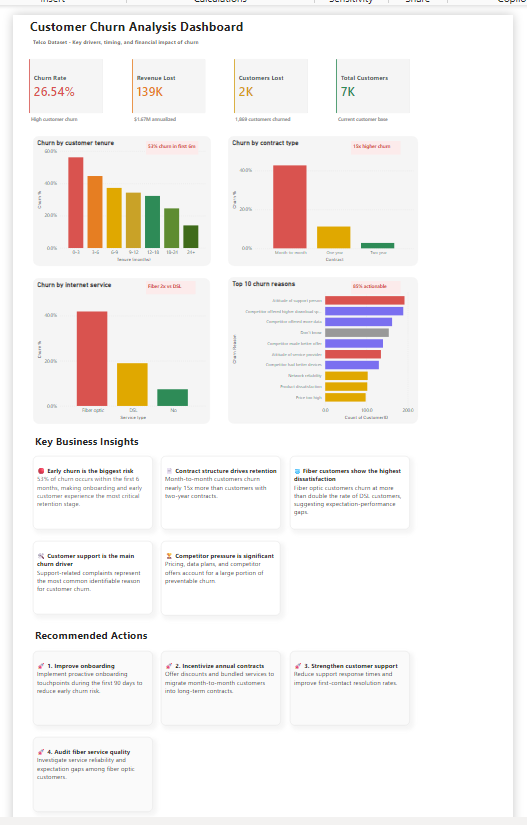

The page's visual inventory and layout, read from the dashboard file:
{"tool":"powerbi","page":{"name":"Page 1","canvas":[1280,2400],"ordinal":0},"visuals":[{"type":"columnChart","title":"Churn by customer tenure","fields":{"Y":["customer_Telco_clean.Churn Rate by Tenure"],"Category":["customer_Telco_clean.Tenure Group"]},"box":[50,311.1,455.6,333.3],"z":0},{"type":"columnChart","title":"Churn by contract type","fields":{"Category":["customer_Telco_clean.Contract"],"Y":["customer_Telco_clean.Churn Rate by Tenure"]},"box":[550,311.1,487,333.3],"z":1000},{"type":"clusteredBarChart","title":"Top 10 churn reasons","fields":{"Category":["customer_Telco_clean.Churn Reason"],"Y":["CountNonNull(customer_Telco_clean.CustomerID)"]},"box":[550,672.2,487,375.9],"z":2000},{"type":"columnChart","title":"Churn by internet service","fields":{"Category":["customer_Telco_clean.Internet Service"],"Y":["customer_Telco_clean.Churn Rate"]},"box":[51.9,674.1,453.7,374.1],"z":3000},{"type":"textbox","box":[37.2,1.1,842.6,53.2],"z":4000},{"type":"textbox","box":[45.7,54.3,503.2,40.4],"z":5000},{"type":"cardVisual","fields":{"Data":["customer_Telco_clean.Revenue Lost"]},"box":[286,94.4,224.1,175.9],"z":6000},{"type":"cardVisual","fields":{"Data":["customer_Telco_clean.Total Customers"]},"box":[811.1,94.4,225.9,175.9],"z":7000},{"type":"cardVisual","fields":{"Data":["customer_Telco_clean.Customers Lost"]},"box":[547.6,94.4,225.9,175.9],"z":8000},{"type":"cardVisual","fields":{"Data":["customer_Telco_clean.Churn Rate"]},"box":[23.4,94.4,225,175.5],"z":9000},{"type":"textbox","box":[41.5,253.2,203.2,33],"z":10000},{"type":"textbox","box":[304.2,254.2,163.5,32.3],"z":11000},{"type":"textbox","box":[829.2,254.2,164.6,32.3],"z":12000},{"type":"textbox","box":[564.6,254.2,163.5,32.3],"z":13000},{"type":"textbox","box":[279.8,324.5,134,34],"z":14000},{"type":"textbox","box":[693.6,324.5,127.7,34],"z":15000},{"type":"textbox","box":[279.8,683,127.7,34],"z":16000},{"type":"textbox","box":[727.7,683,127.7,34],"z":17000},{"type":"textbox","box":[709.3,1130.2,307,188.4],"z":18000},{"type":"textbox","box":[380.2,1130.2,307,188.4],"z":19000},{"type":"textbox","box":[51.2,1130.2,307,188.4],"z":20000},{"type":"textbox","box":[51.2,1348.8,307,188.4],"z":21000},{"type":"textbox","box":[380.2,1349,306.2,190.6],"z":22000},{"type":"textbox","box":[52.1,1630.2,307.3,190.6],"z":23000},{"type":"textbox","box":[380.7,1630.2,307.3,190.6],"z":24000},{"type":"textbox","box":[709.4,1630.2,307.3,190.6],"z":25000},{"type":"textbox","box":[52.1,1851,307.3,191.7],"z":26000},{"type":"textbox","box":[51,1068.8,345.8,53.1],"z":27000},{"type":"textbox","box":[52.1,1566.7,330.2,53.1],"z":28000}]}

Visuals, with their boxes on the page's 1280x2400 design canvas (x1, y1, x2, y2). These are canvas units, not pixel positions in the 527x825 screenshot, which may show the page scaled, cropped or inside an application window:
"Churn by customer tenure" columnChart: BBox(50, 311, 506, 644)
"Churn by contract type" columnChart: BBox(550, 311, 1037, 644)
"Top 10 churn reasons" clusteredBarChart: BBox(550, 672, 1037, 1048)
"Churn by internet service" columnChart: BBox(52, 674, 506, 1048)
textbox: BBox(37, 1, 880, 54)
textbox: BBox(46, 54, 549, 95)
cardVisual - customer_Telco_clean.Revenue Lost: BBox(286, 94, 510, 270)
cardVisual - customer_Telco_clean.Total Customers: BBox(811, 94, 1037, 270)
cardVisual - customer_Telco_clean.Customers Lost: BBox(548, 94, 774, 270)
cardVisual - customer_Telco_clean.Churn Rate: BBox(23, 94, 248, 270)
textbox: BBox(42, 253, 245, 286)
textbox: BBox(304, 254, 468, 286)
textbox: BBox(829, 254, 994, 286)
textbox: BBox(565, 254, 728, 286)
textbox: BBox(280, 324, 414, 358)
textbox: BBox(694, 324, 821, 358)
textbox: BBox(280, 683, 408, 717)
textbox: BBox(728, 683, 855, 717)
textbox: BBox(709, 1130, 1016, 1319)
textbox: BBox(380, 1130, 687, 1319)
textbox: BBox(51, 1130, 358, 1319)
textbox: BBox(51, 1349, 358, 1537)
textbox: BBox(380, 1349, 686, 1540)
textbox: BBox(52, 1630, 359, 1821)
textbox: BBox(381, 1630, 688, 1821)
textbox: BBox(709, 1630, 1017, 1821)
textbox: BBox(52, 1851, 359, 2043)
textbox: BBox(51, 1069, 397, 1122)
textbox: BBox(52, 1567, 382, 1620)
